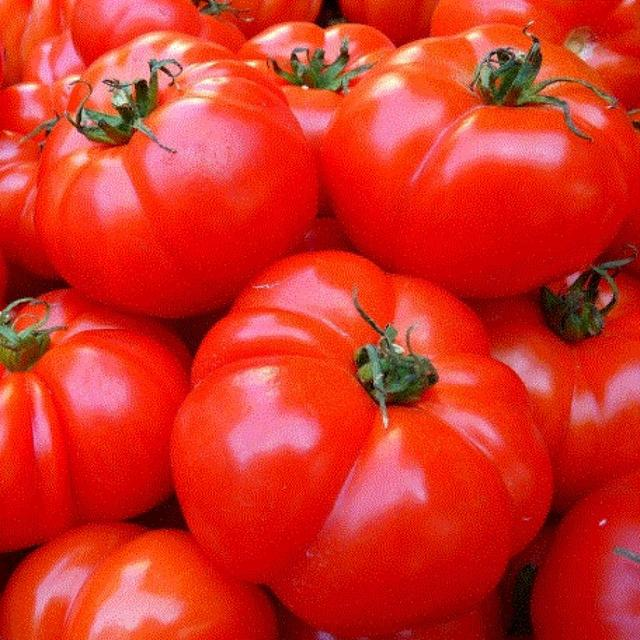Healthy Fruit: (56, 52, 397, 384)
